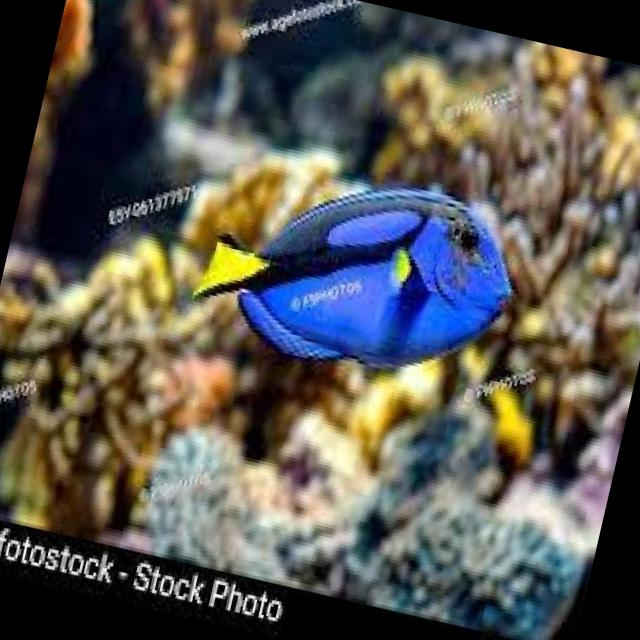TangFish: (187, 144, 532, 402)
